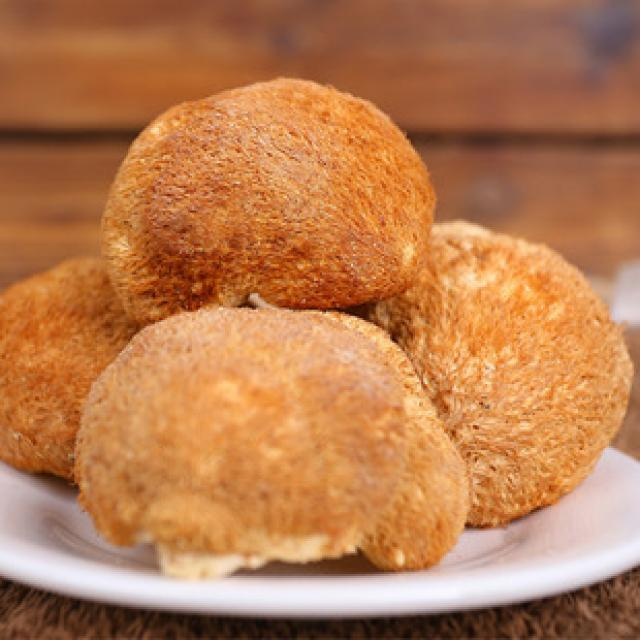Hericium erinaceus: (72, 309, 469, 576), (376, 223, 638, 523), (104, 76, 432, 314), (1, 261, 119, 477)
